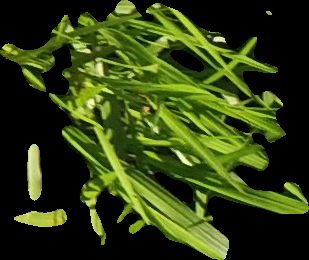grass: (1, 1, 306, 259)
